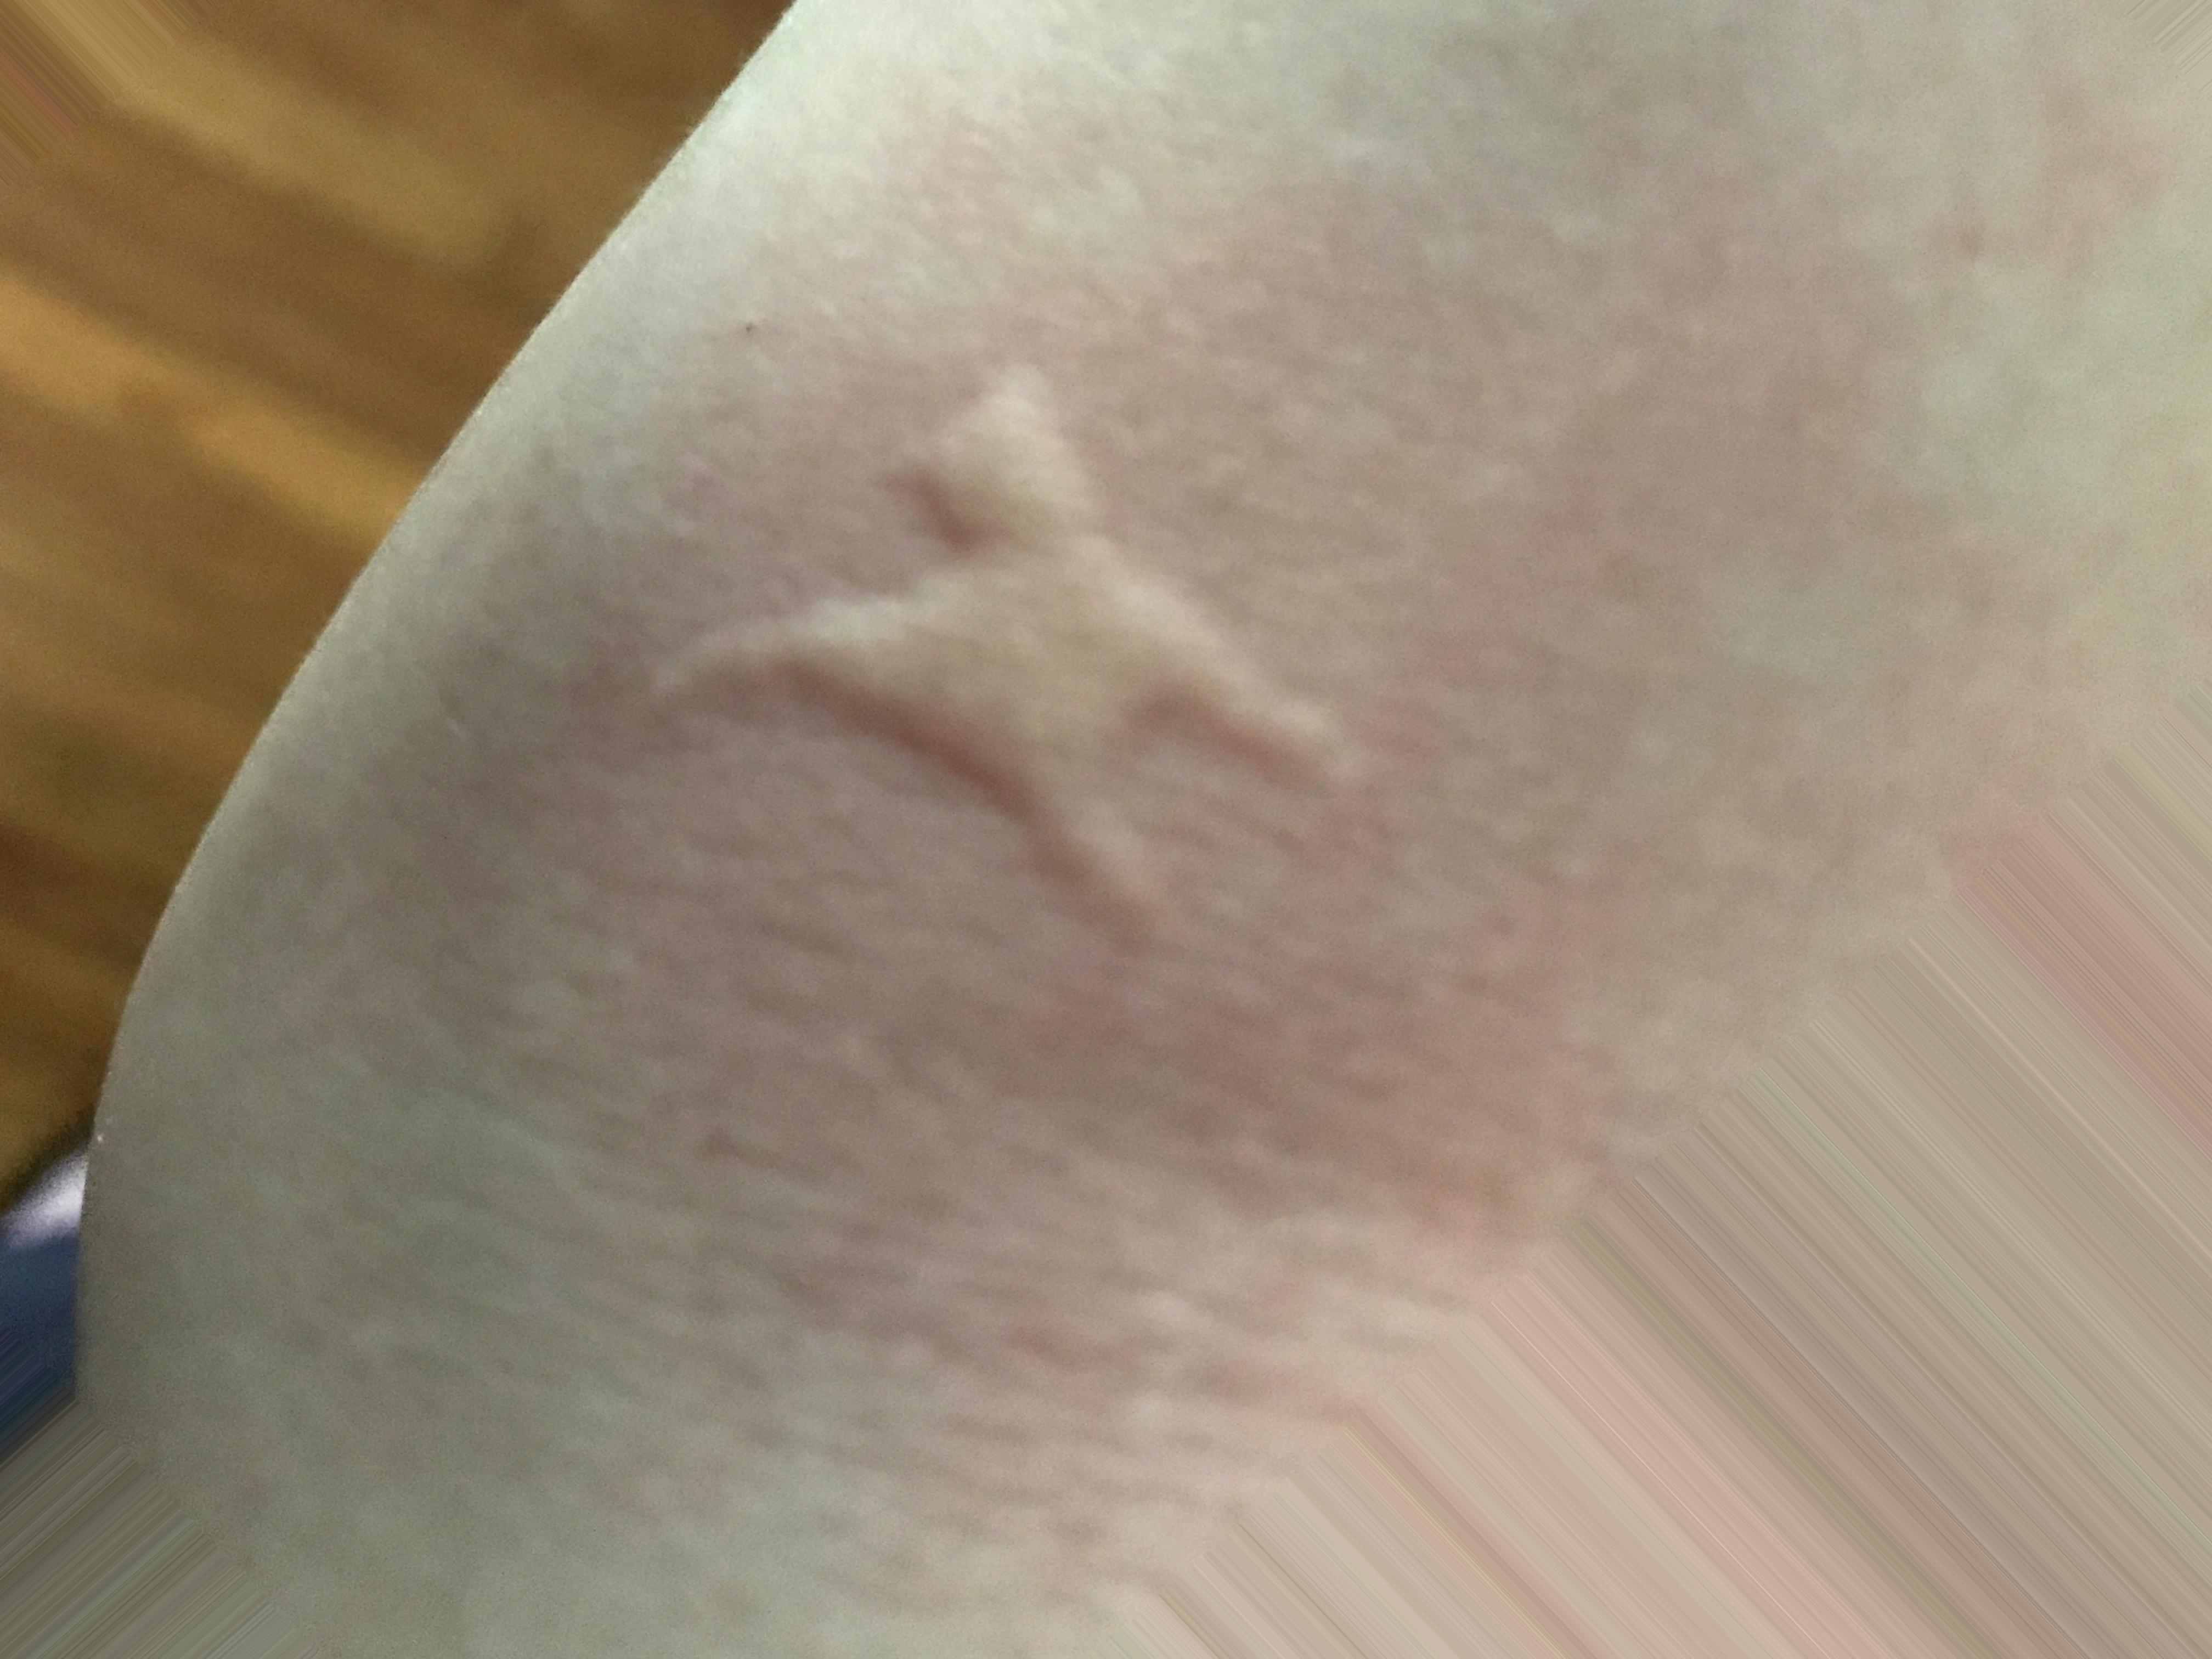Mosquito: (662, 361, 1357, 1058)
